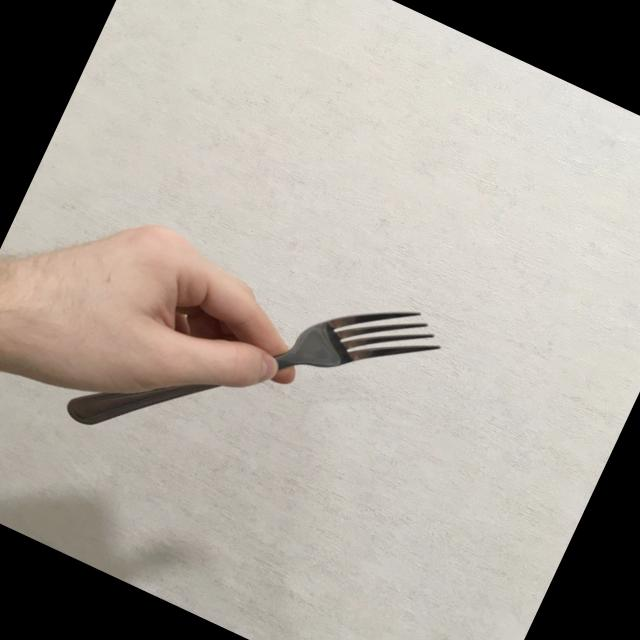fork: (60, 192, 452, 548)
